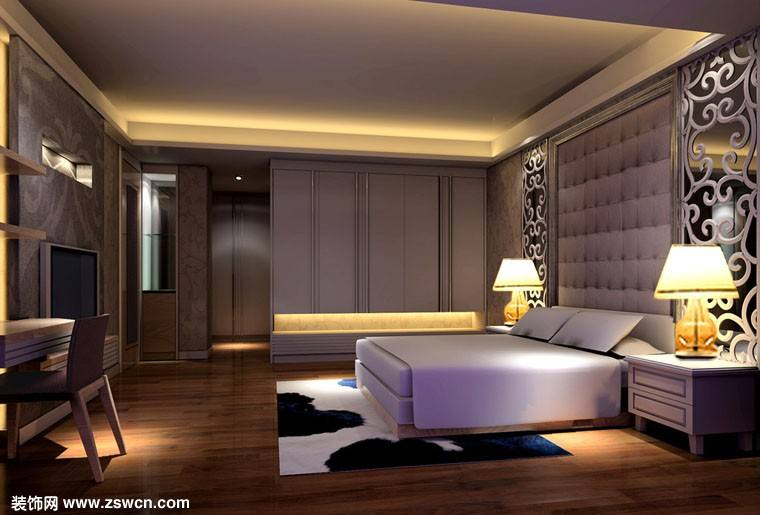床: (357, 325, 641, 443)
枕头: (509, 304, 643, 359)
灯: (652, 247, 735, 357), (490, 257, 541, 331), (230, 174, 246, 187)
